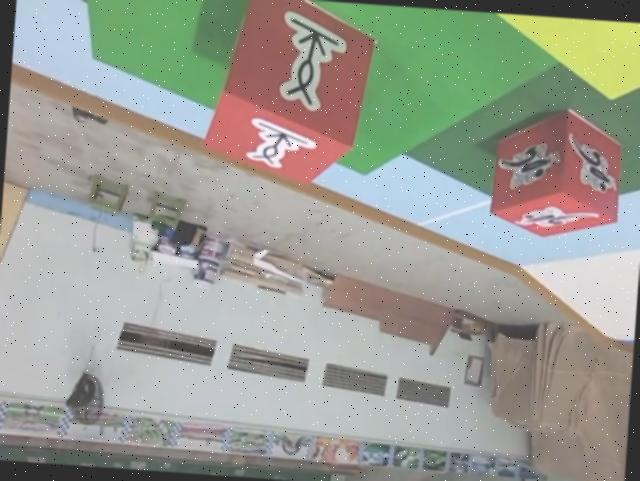R1: (488, 102, 633, 248)
R2 Real: (197, 0, 376, 191)
